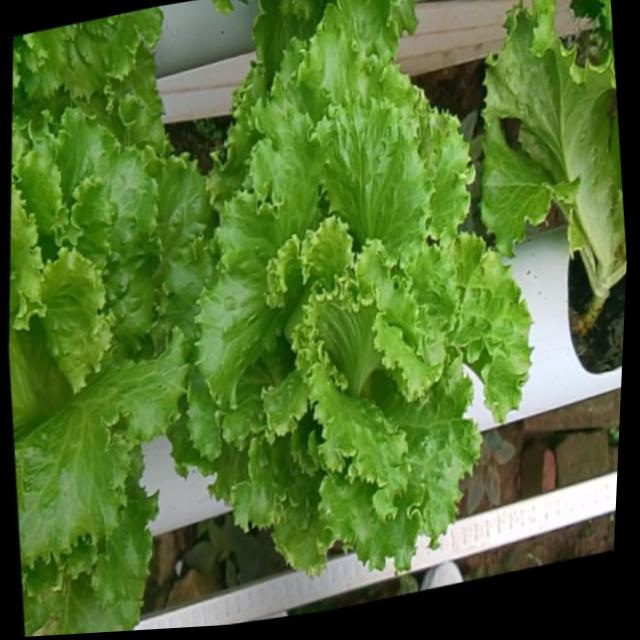Mature: (179, 42, 521, 583), (9, 118, 203, 580)
